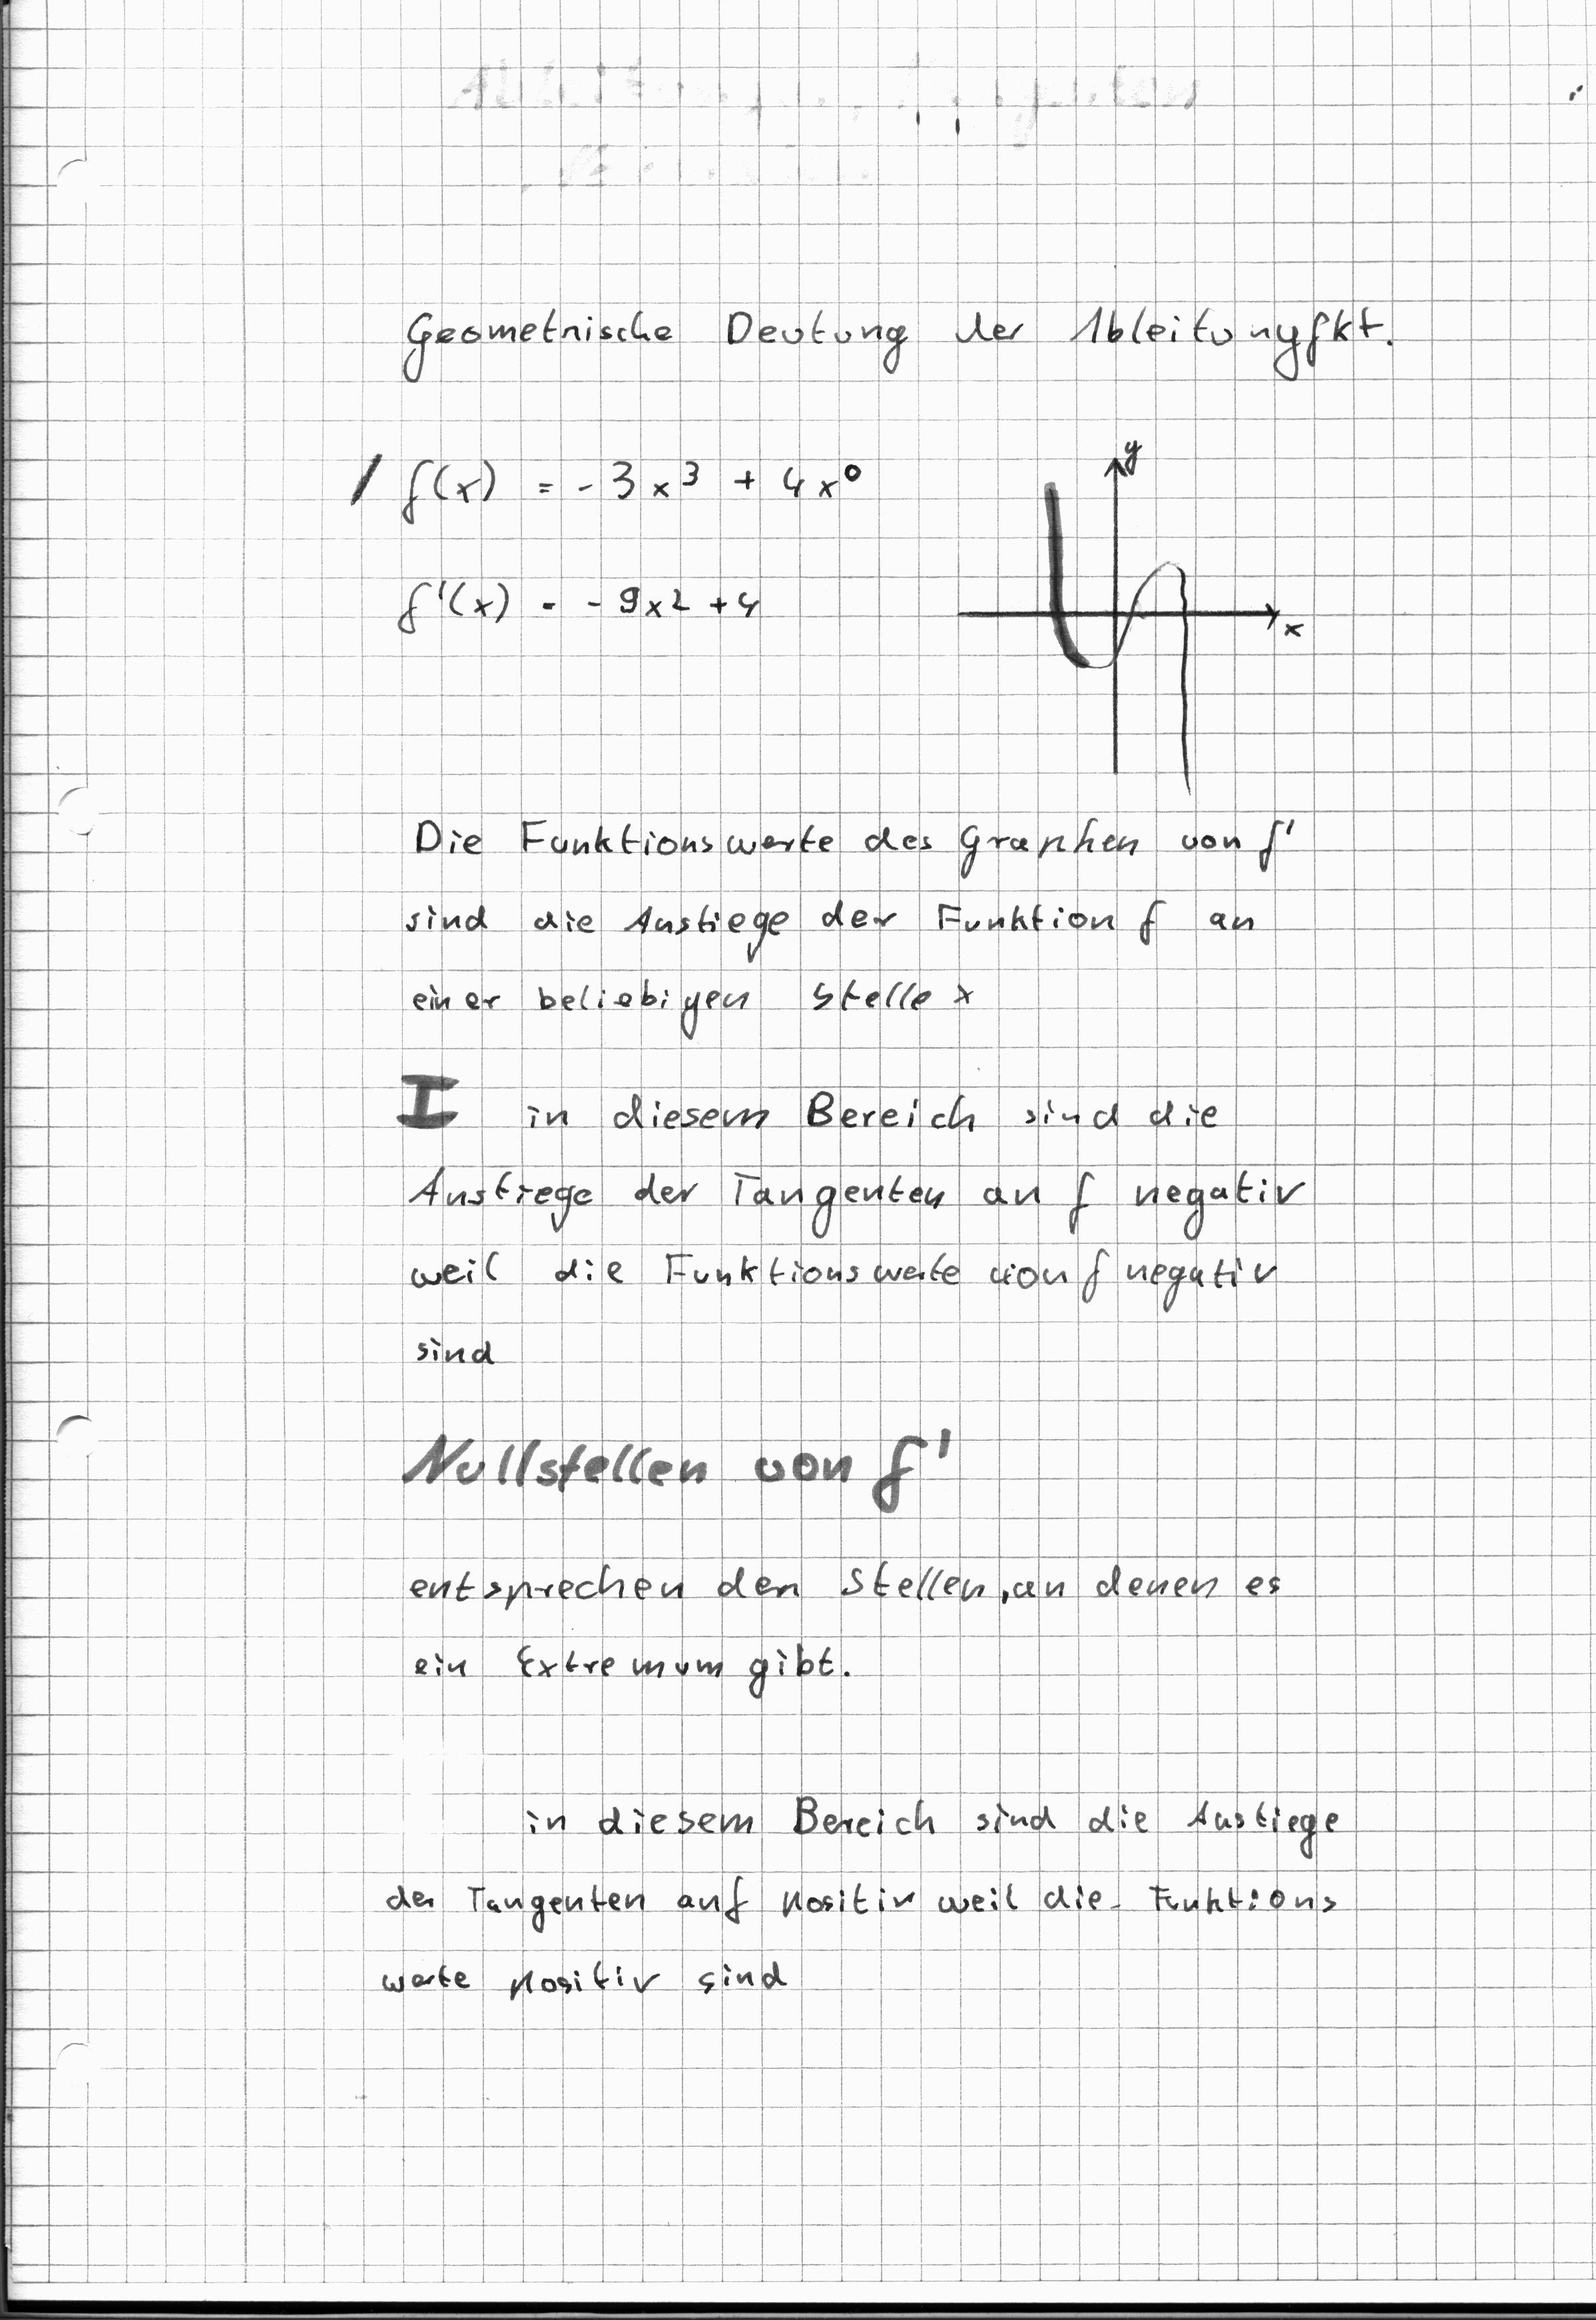word: (387, 1063, 1318, 1380), (372, 1787, 1351, 2020), (387, 793, 1307, 1033), (401, 1539, 1296, 1705), (392, 292, 1404, 388), (333, 429, 877, 543), (380, 557, 780, 670)
